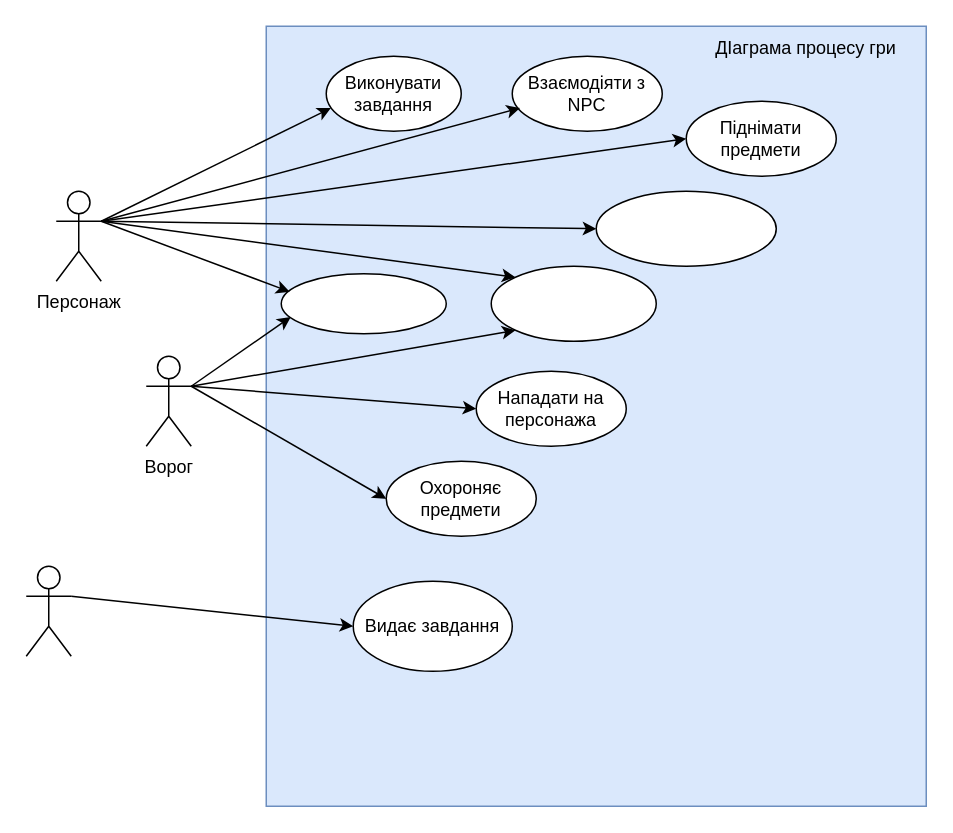
This 953x833 diagram has some shape labels left out. Each missing label, with the centre of its shape:
"NPC" belongs at point (48, 610).
"Боротися з ворогом" belongs at point (685, 228).
"Взаємодіяти з об'єктами" belongs at point (573, 303).
"Рухатись по локації" belongs at point (363, 303).
